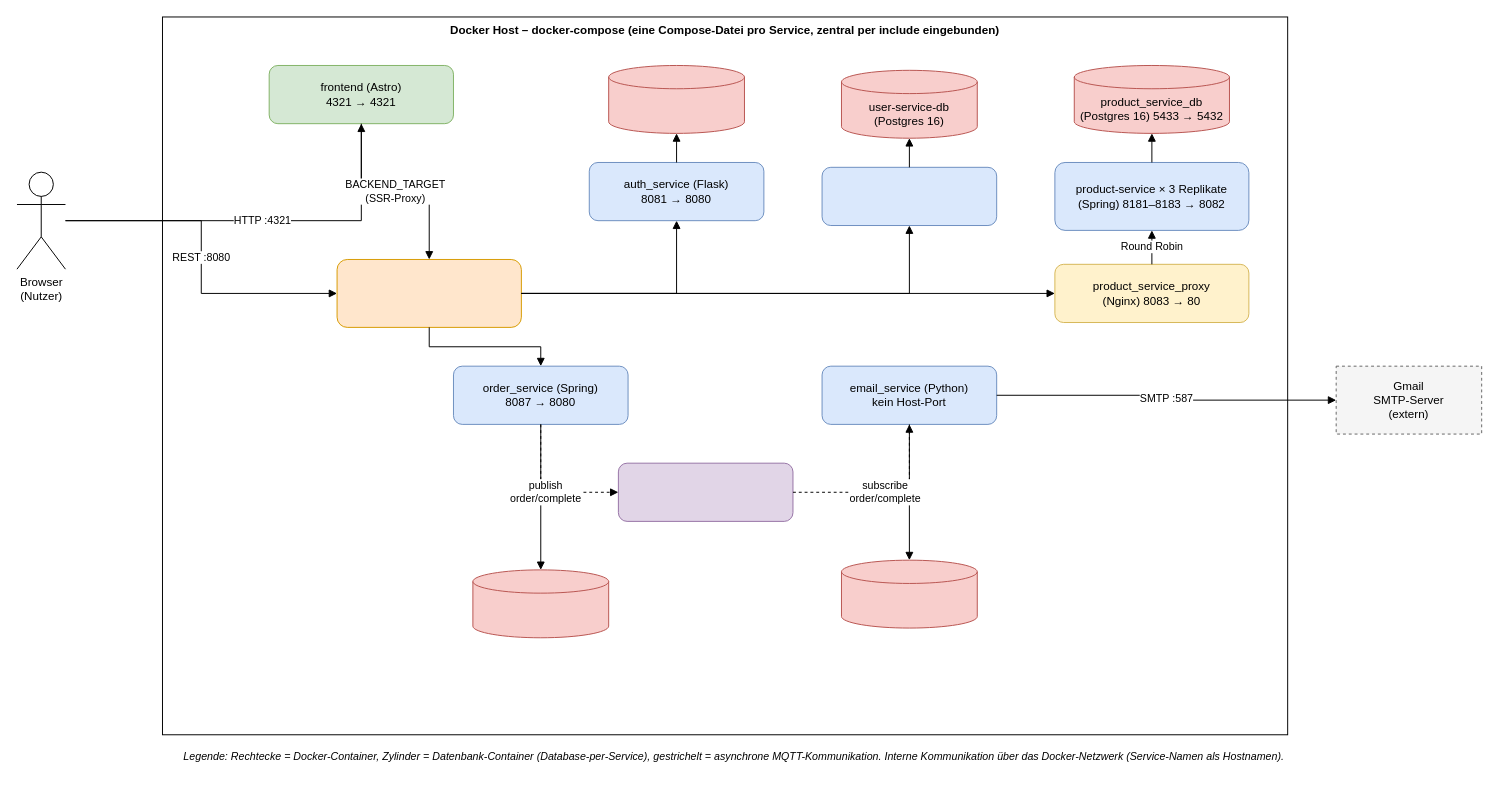
Some shapes in this 1499 by 800 pixel diagram are drawn without their labels. Each missing label, with the centre of its shape:
"api-gateway (Spring Cloud Gateway) 8080 → 8080" belongs at point 428,293.
"auth-service-db (Postgres 16)" belongs at point 676,99.
"email-service-db (Postgres 16)" belongs at point 909,593.
"mqtt-broker (Mosquitto) 1883, 9001" belongs at point 705,491.
"order-service-db (Postgres 16)" belongs at point 540,603.
"user_service (Spring) 8082 → 8080" belongs at point 909,196.
